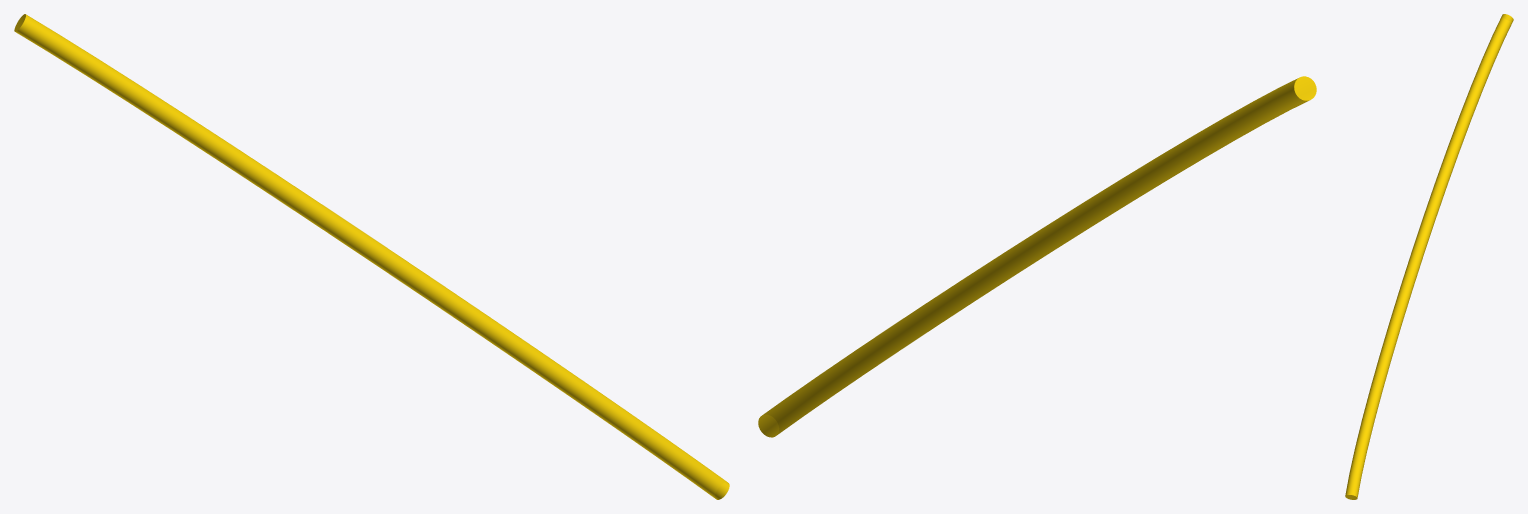
Rendered from Event_421556567_track_4.fbx.
3 renders of one model, left to right at view 1: azimuth 30°, elevation 25°; view 2: azimuth 150°, elevation 25°; view 3: azimuth 270°, elevation 25°, orthographic. The views are drawn at different scales.
Parts seen in each view (by area): view 1: Model; view 2: Model; view 3: Model.
Boxes of the visible parts, x1,y1,x2,y2 form: Model: [14, 14, 729, 499]; Model: [758, 76, 1316, 437]; Model: [1345, 14, 1513, 499].
Size of the model in its own units: 1.3 by 1.12 by 0.5369.
